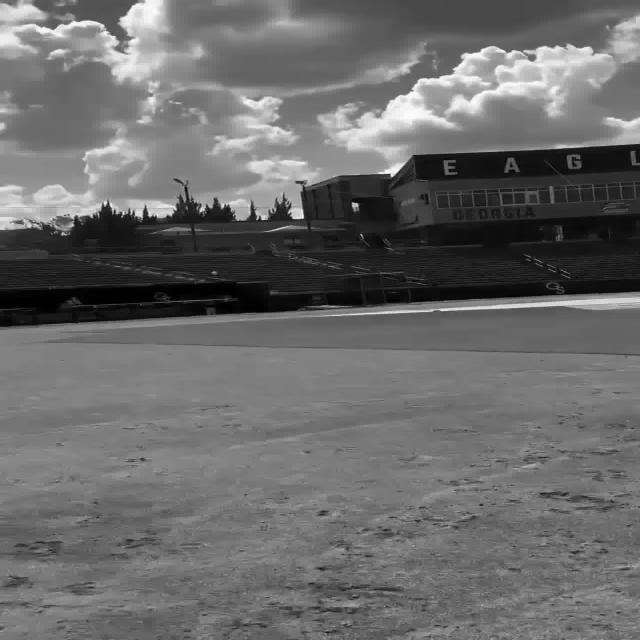baseball: (211, 271, 218, 278)
